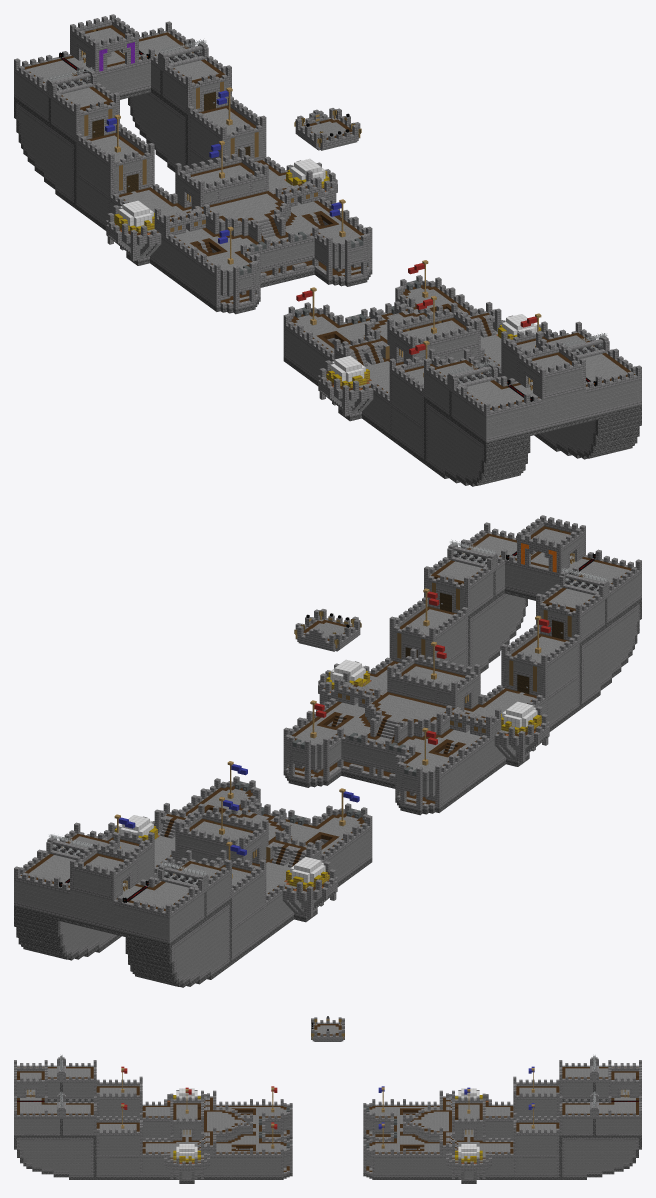
The model's file is minecraft.obj.
3 views of the same model, one above another, from view 1: azimuth 30°, elevation 25°; view 2: azimuth 150°, elevation 25°; view 3: azimuth 270°, elevation 25° (orthographic). The views are drawn at different scales.
Size of the model in its own units: 55 by 47.52 by 205.
